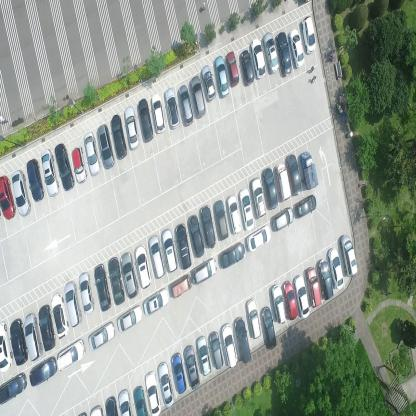car: (56, 337, 86, 373), (54, 142, 75, 192), (40, 149, 60, 198), (0, 372, 28, 407), (93, 261, 112, 312), (11, 170, 31, 217), (120, 251, 139, 300), (24, 313, 43, 362), (51, 292, 70, 340), (108, 256, 126, 306), (64, 280, 82, 328), (38, 304, 56, 352), (10, 318, 28, 365), (220, 322, 238, 369), (88, 321, 115, 352), (26, 159, 45, 203), (235, 316, 252, 365), (110, 113, 127, 161), (175, 222, 192, 270), (157, 360, 174, 408), (142, 287, 170, 316), (148, 234, 166, 279), (134, 245, 152, 290), (144, 370, 162, 415), (83, 130, 100, 177), (340, 232, 358, 276), (326, 246, 344, 290), (199, 204, 216, 250), (188, 214, 205, 260), (161, 228, 178, 274), (293, 273, 310, 319), (116, 304, 142, 334), (30, 357, 56, 387), (262, 31, 280, 74), (138, 98, 154, 145), (98, 124, 115, 168), (300, 150, 318, 191), (124, 106, 140, 152), (184, 344, 200, 390), (276, 31, 292, 76), (0, 174, 16, 219), (0, 320, 14, 371), (190, 75, 206, 119), (178, 82, 194, 126), (164, 86, 180, 130), (78, 272, 94, 316), (246, 225, 272, 252), (226, 194, 243, 235), (262, 166, 278, 209), (238, 188, 254, 231), (275, 162, 292, 202), (192, 258, 218, 284), (261, 305, 276, 350), (250, 38, 266, 80), (286, 154, 302, 196), (318, 258, 334, 300), (306, 266, 322, 308), (246, 298, 262, 340), (171, 353, 187, 395), (271, 282, 286, 326), (251, 177, 267, 218), (220, 242, 244, 269), (71, 146, 88, 184), (288, 28, 304, 68), (208, 332, 224, 372), (196, 336, 212, 376), (214, 199, 229, 241), (301, 14, 316, 55), (214, 56, 229, 97), (283, 279, 298, 320), (151, 94, 166, 134), (201, 64, 216, 102), (240, 49, 255, 86), (272, 207, 294, 232), (170, 272, 191, 298), (296, 195, 318, 219), (226, 50, 239, 85), (133, 386, 148, 416), (118, 388, 132, 415), (104, 396, 118, 415), (89, 405, 104, 415)
